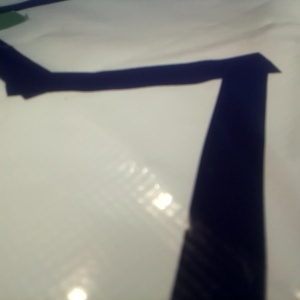bottom_left: (1, 1, 67, 16)
bottom_right: (39, 1, 109, 12)
top_left: (1, 69, 66, 128)
